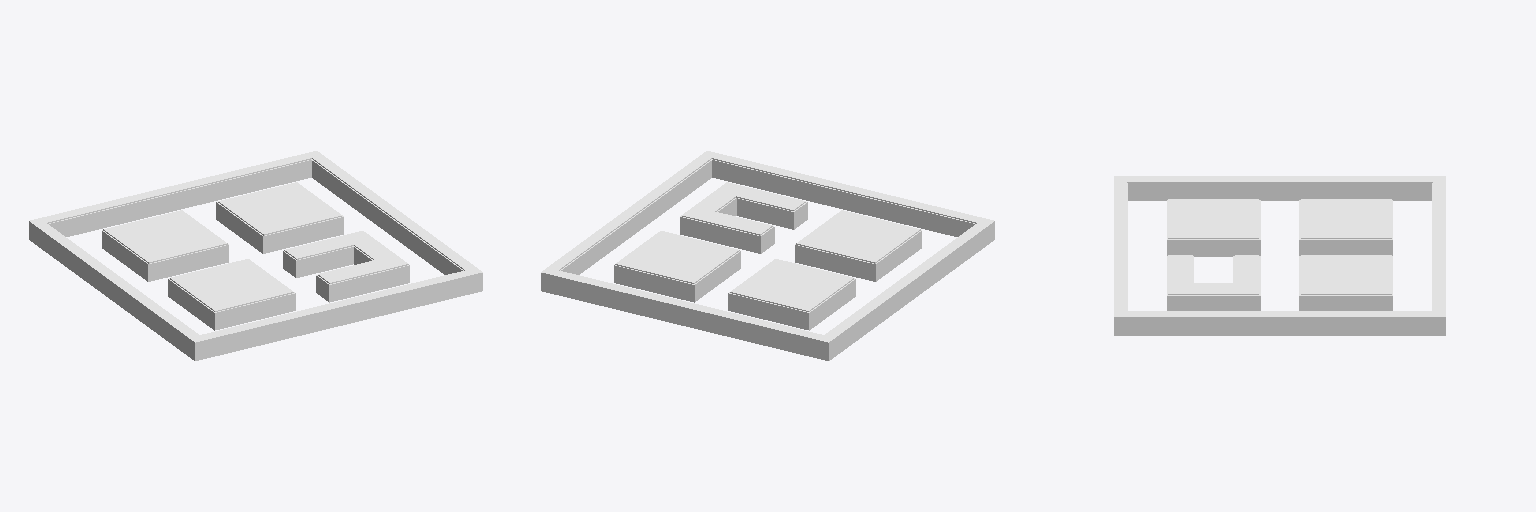
The model's file is stage6-1-0-Stage6-1.obj.
The picture shows the model from 3 angles: view 1: azimuth 30°, elevation 25°; view 2: azimuth 150°, elevation 25°; view 3: azimuth 270°, elevation 25°; orthographic projection.
Visible parts, largest first — view 1: Stage6-1; view 2: Stage6-1; view 3: Stage6-1.
Part boxes in pixels (bbox=[...]): Stage6-1: bbox=[29, 151, 482, 360]; Stage6-1: bbox=[541, 151, 994, 360]; Stage6-1: bbox=[1114, 176, 1445, 335].
Size of the model in its own units: 25.6 by 1.6 by 25.6.